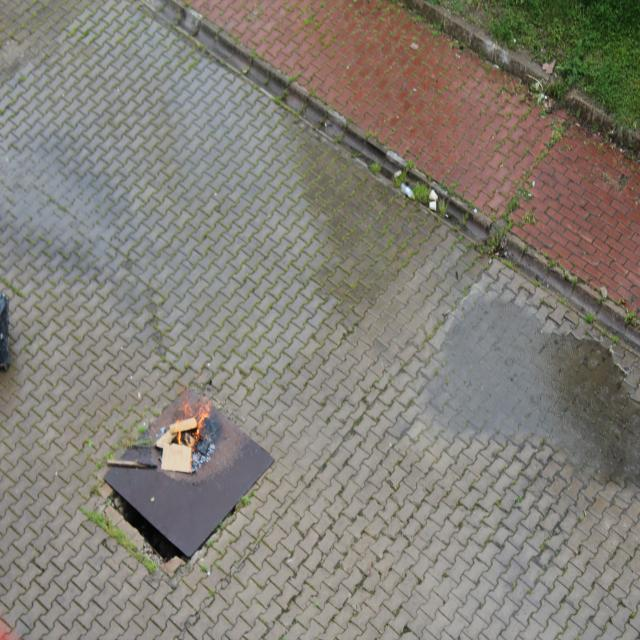fire: (158, 390, 224, 447)
